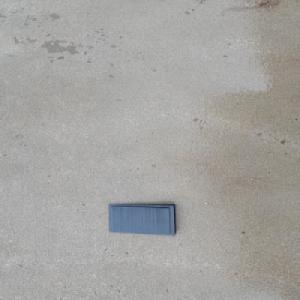PlasticPart: (106, 203, 177, 235)
